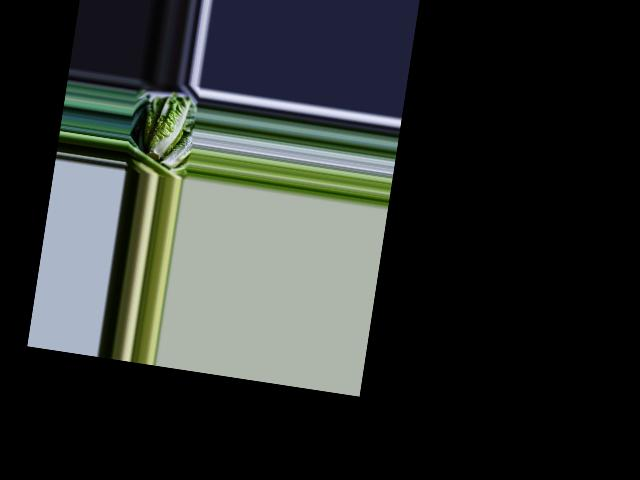lettuce: (139, 89, 192, 164)
